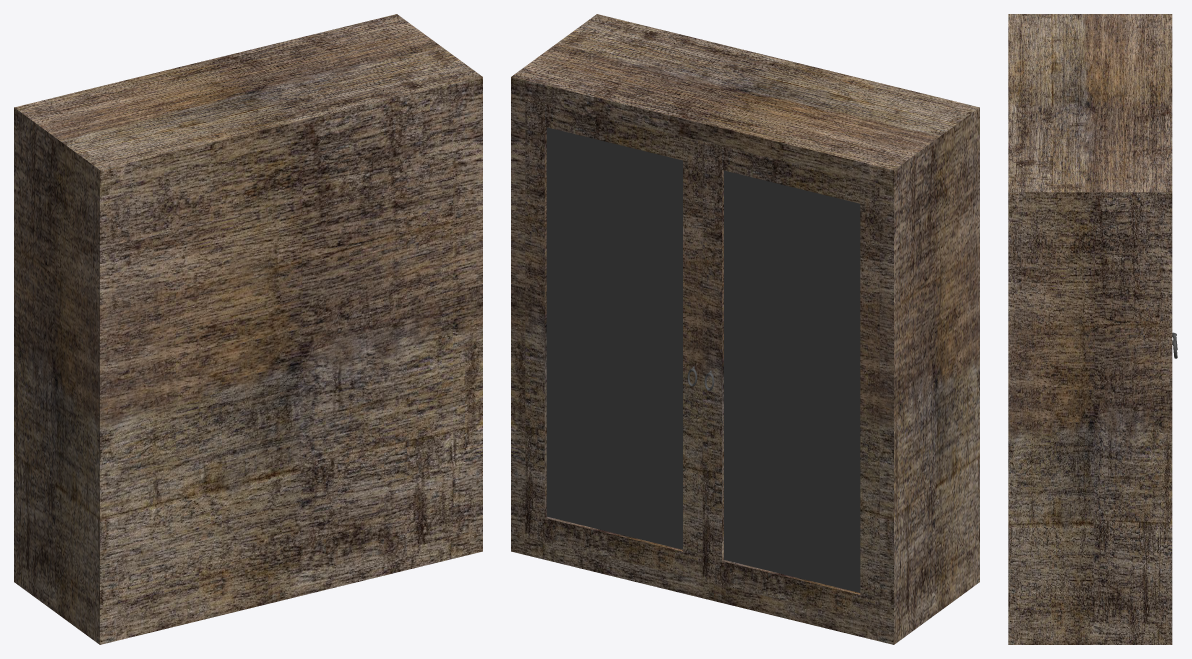
Rendered from kredenc_regi.fbx.
The picture shows the model from 3 angles, left to right: view 1: azimuth 30°, elevation 25°; view 2: azimuth 150°, elevation 25°; view 3: azimuth 270°, elevation 25°; orthographic projection. The views are drawn at different scales.
Parts seen in each view (by area): view 1: Cube; view 2: Cube, Cube.003, Cube.004, Cube.001, Cylinder.001; view 3: Cube.
Boxes of the visible parts, x1=… form: Cube: x1=14, y1=14, x2=482, y2=644; Cube: x1=511, y1=14, x2=979, y2=644; Cube.003: x1=724, y1=170, x2=860, y2=592; Cube.004: x1=546, y1=127, x2=682, y2=549; Cube.001: x1=525, y1=98, x2=702, y2=580; Cylinder.001: x1=702, y1=141, x2=879, y2=623; Cube: x1=1008, y1=14, x2=1172, y2=644.
Size of the model in its own units: 422 by 499 by 169.
